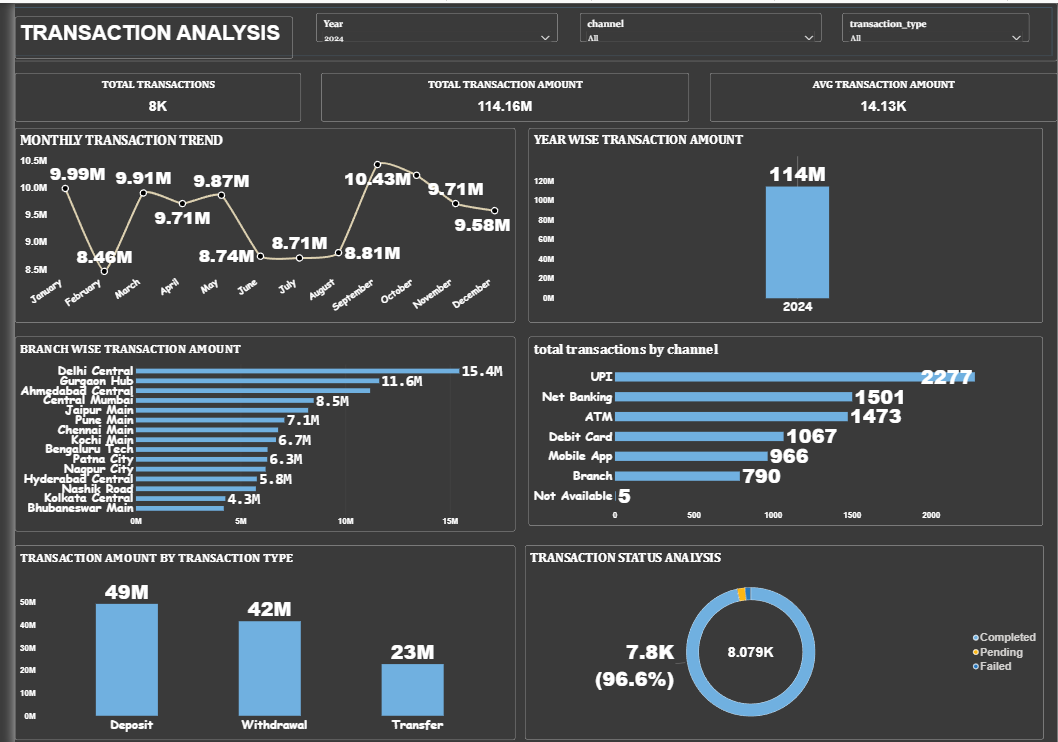

The dashboard page shown, as its layout file describes it:
{"tool":"powerbi","page":{"name":"Page 4","canvas":[1920,1080],"ordinal":6},"visuals":[{"type":"cardVisual","title":"TOTAL TRANSACTIONS","fields":{"Data":["public accounts.total transactions"]},"box":[0,0,280,280],"z":0},{"type":"cardVisual","title":"TOTAL TRANSACTION AMOUNT","fields":{"Data":["public accounts.total transaction amount"]},"box":[0,290,280,280],"z":1000},{"type":"cardVisual","title":"AVG TRANSACTION AMOUNT","fields":{"Data":["public accounts.average transaction amount"]},"box":[0,580,280,280],"z":2000},{"type":"slicer","fields":{"Values":["public transactions.transaction_date.Variation.Date Hierarchy.Year"]},"box":[0.5,856,280,210],"z":3000},{"type":"slicer","fields":{"Values":["public transactions.transaction_type"]},"box":[288,144,288,112],"z":4000},{"type":"slicer","fields":{"Values":["public transactions.channel"]},"box":[288,0,288,112],"z":5000},{"type":"lineChart","title":"MONTHLY TRANSACTION TREND","fields":{"Category":["public transactions.transaction_date.Variation.Date Hierarchy.Month"],"Y":["public accounts.total transaction amount"]},"box":[288,216,768,288],"z":6000},{"type":"clusteredColumnChart","title":"TRANSACTION AMOUNT BY TRANSACTION TYPE","fields":{"Y":["public accounts.total transaction amount"],"Category":["public transactions.transaction_type"]},"box":[192,784,768,280],"z":7000},{"type":"clusteredBarChart","fields":{"Y":["public accounts.total transactions"],"Category":["public transactions.channel"]},"box":[1056,0,720,288],"z":8000},{"type":"donutChart","title":"TRANSACTION STATUS ANALYSIS","fields":{"Category":["public transactions.transaction_status"],"Y":["CountNonNull(public transactions.transaction_id)"]},"box":[768,456,720,216],"z":9000},{"type":"clusteredBarChart","title":"BRANCH WISE TRANSACTION AMOUNT","fields":{"Category":["public branches.branch_name"],"Y":["public accounts.total transaction amount"]},"box":[1120,712,720,360],"z":10000},{"type":"clusteredColumnChart","title":"YEAR WISE TRANSACTION AMOUNT","fields":{"Category":["public transactions.transaction_date.Variation.Date Hierarchy.Year"],"Y":["public accounts.total transaction amount"]},"box":[1056,288,720,168],"z":11000}]}

Visuals, with their boxes on the page's 1920x1080 design canvas (x1, y1, x2, y2). These are canvas units, not pixel positions in the 1058x742 screenshot, which may show the page scaled, cropped or inside an application window:
"TOTAL TRANSACTIONS" cardVisual: box(0, 0, 280, 280)
"TOTAL TRANSACTION AMOUNT" cardVisual: box(0, 290, 280, 570)
"AVG TRANSACTION AMOUNT" cardVisual: box(0, 580, 280, 860)
slicer - public transactions.transaction_date.Variation.Date Hierarchy.Year: box(0, 856, 280, 1066)
slicer - public transactions.transaction_type: box(288, 144, 576, 256)
slicer - public transactions.channel: box(288, 0, 576, 112)
"MONTHLY TRANSACTION TREND" lineChart: box(288, 216, 1056, 504)
"TRANSACTION AMOUNT BY TRANSACTION TYPE" clusteredColumnChart: box(192, 784, 960, 1064)
clusteredBarChart - public accounts.total transactions x public transactions.channel: box(1056, 0, 1776, 288)
"TRANSACTION STATUS ANALYSIS" donutChart: box(768, 456, 1488, 672)
"BRANCH WISE TRANSACTION AMOUNT" clusteredBarChart: box(1120, 712, 1840, 1072)
"YEAR WISE TRANSACTION AMOUNT" clusteredColumnChart: box(1056, 288, 1776, 456)
